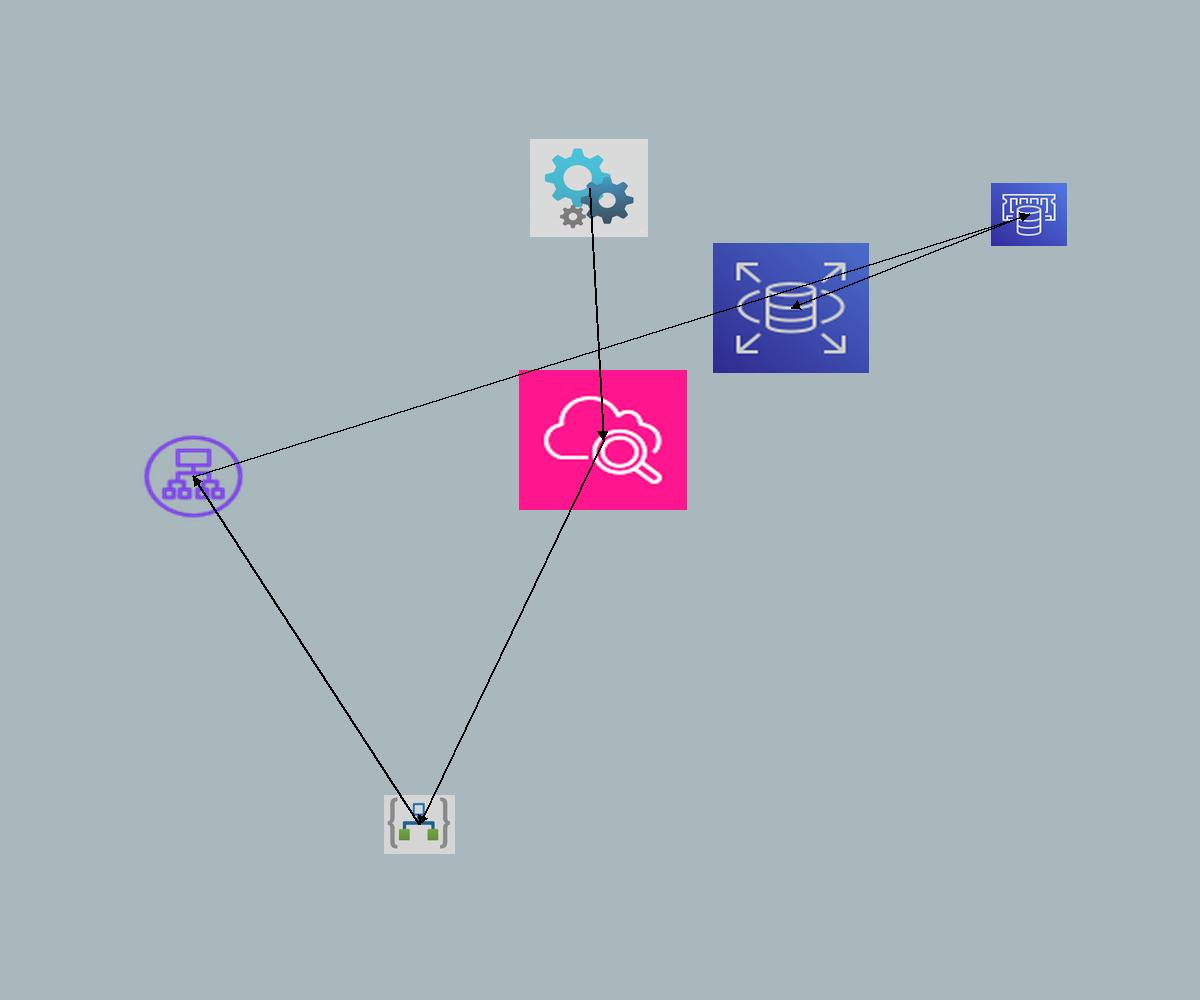AWS-CloudWatch: (519, 370, 687, 510)
AWS-ElastiCache: (991, 183, 1067, 246)
AWS-RDS: (713, 243, 869, 373)
AWS-Res_Elastic-Load-Balancing_Application-Load-Balancer: (140, 432, 247, 521)
Azure_api: (530, 139, 648, 237)
Azure_integration-204-Logic-Apps: (384, 795, 455, 854)
